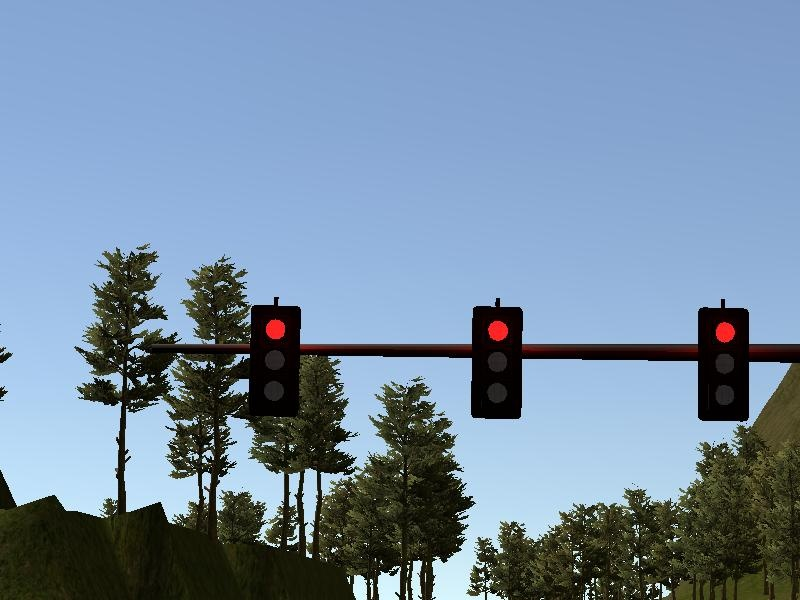Red: (694, 306, 751, 424), (469, 304, 524, 422), (248, 303, 301, 418)
